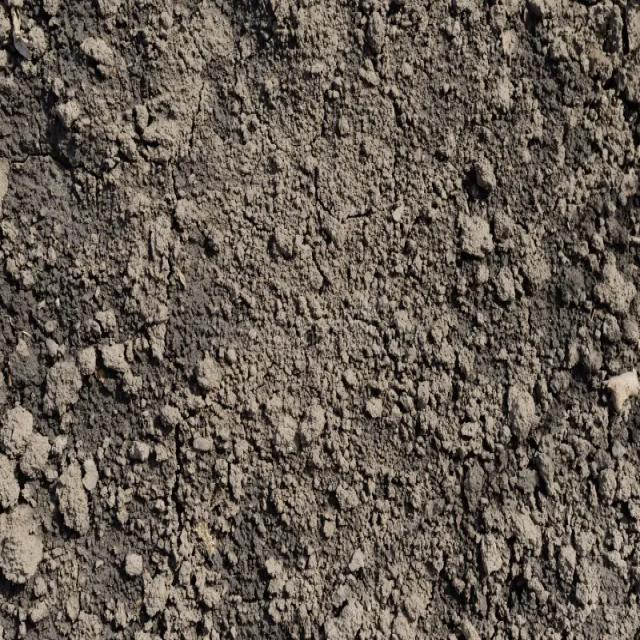suelo_humedo: (118, 145, 481, 572)
